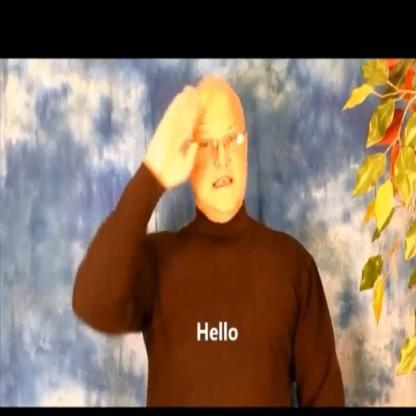Hello: (138, 64, 264, 257)
